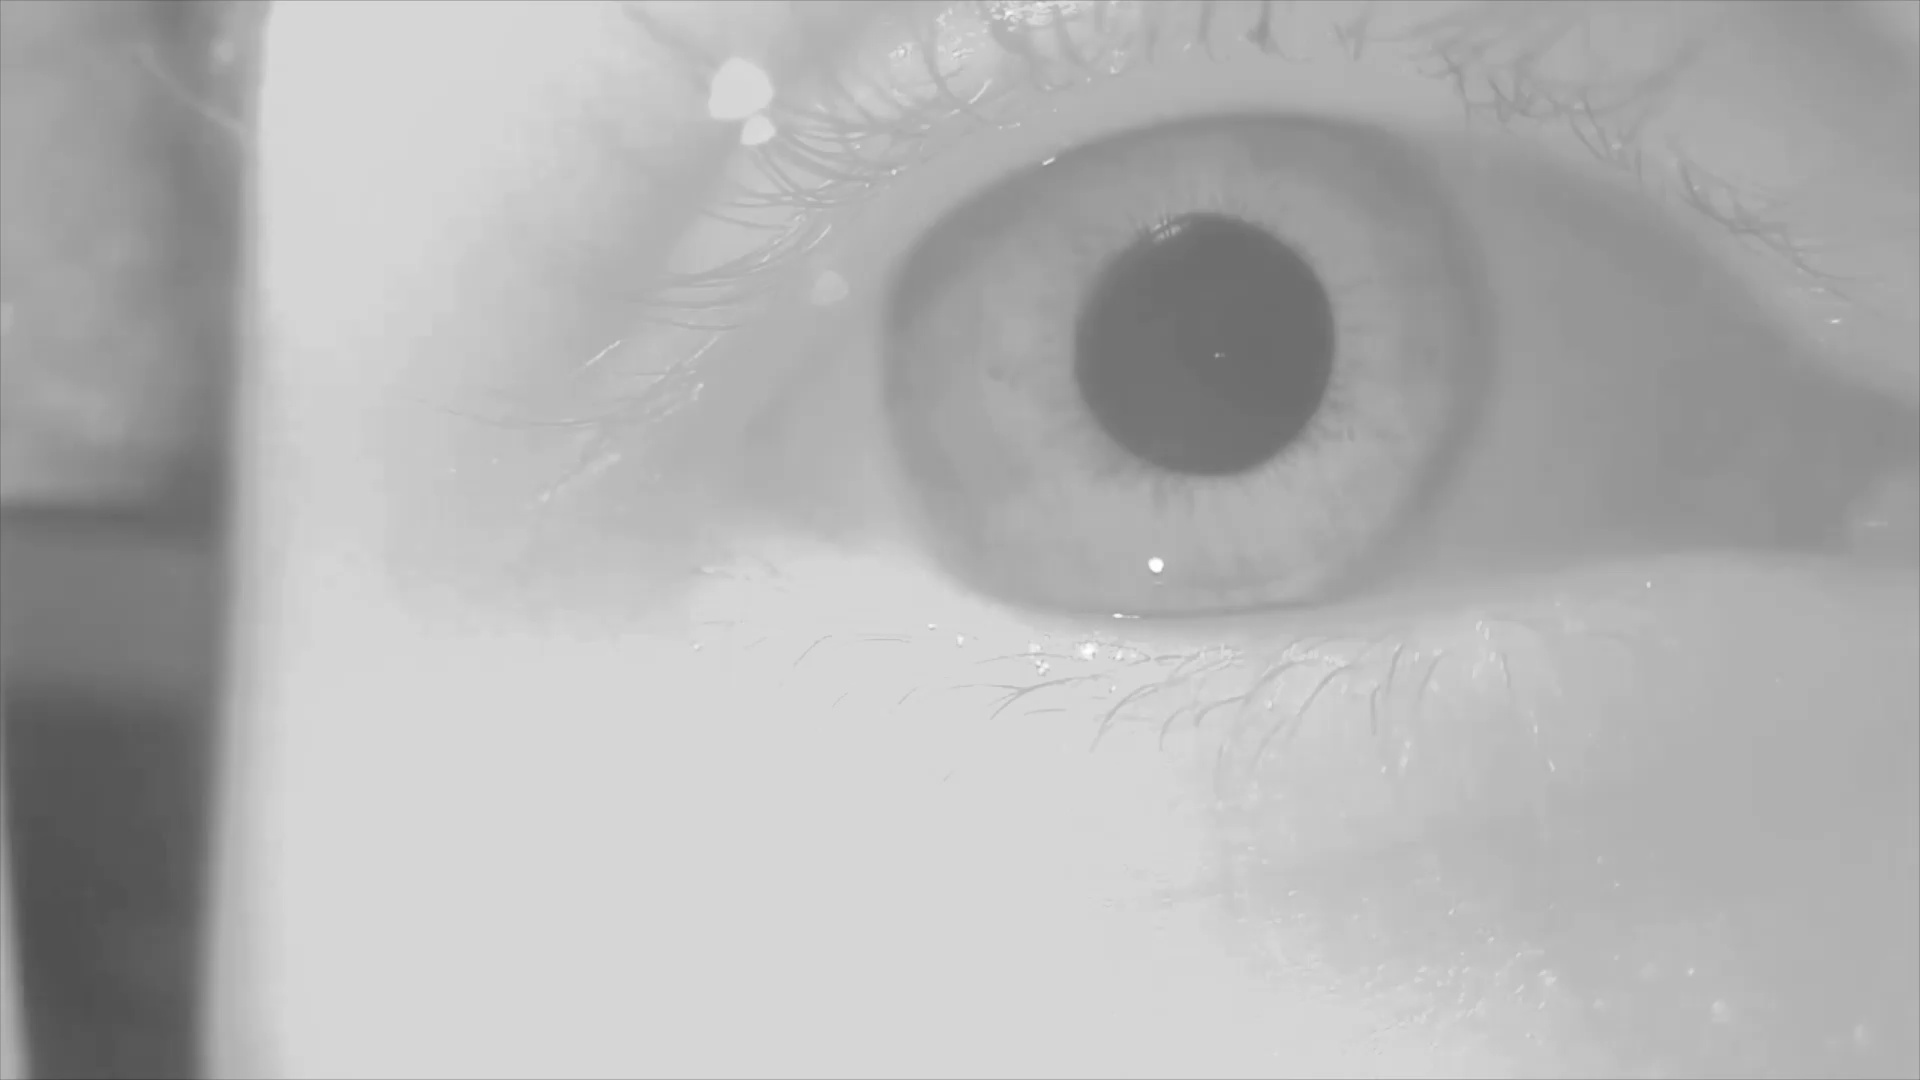pupil: (1071, 217, 1336, 473)
